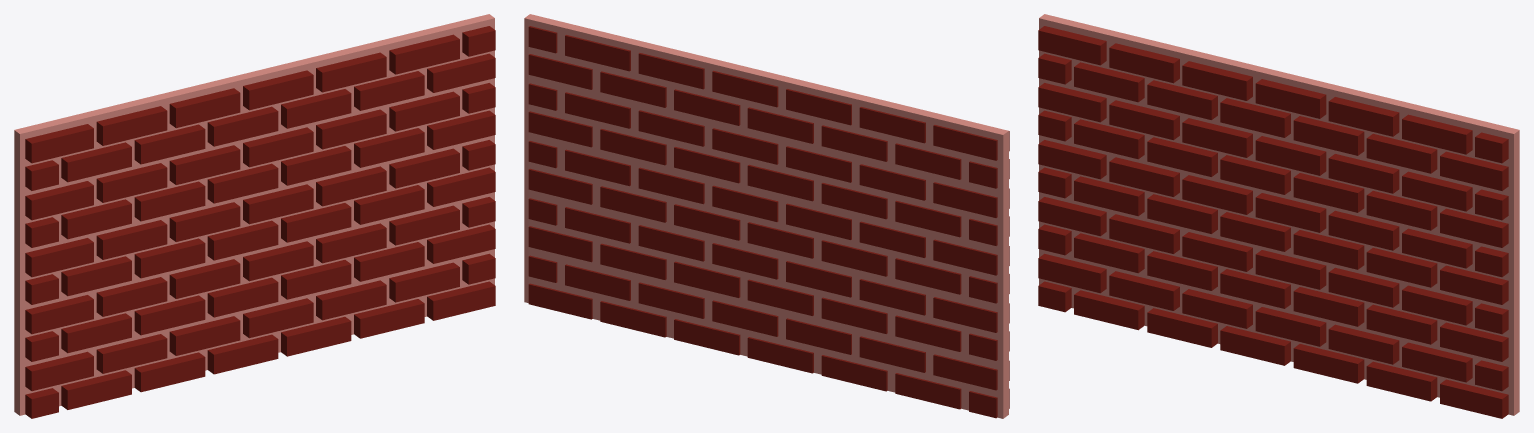
The model's file is bricks.fbx.
3 renders of one model, left to right at view 1: azimuth 30°, elevation 25°; view 2: azimuth 150°, elevation 25°; view 3: azimuth 330°, elevation 25°, orthographic.
Visible parts, largest first — view 1: Cube, Plane; view 2: Cube, Plane; view 3: Cube, Plane.
Boxes of the visible parts, left/top/right/bottom form: Cube: left=25, top=26, right=495, bottom=418; Plane: left=14, top=14, right=494, bottom=415; Cube: left=528, top=26, right=1009, bottom=418; Plane: left=524, top=14, right=1008, bottom=418; Cube: left=1038, top=26, right=1508, bottom=418; Plane: left=1039, top=14, right=1519, bottom=415.
Bounding box in the file's own units: 1690 × 958 × 81.92.
Materials: 1 (1 with a texture image).
